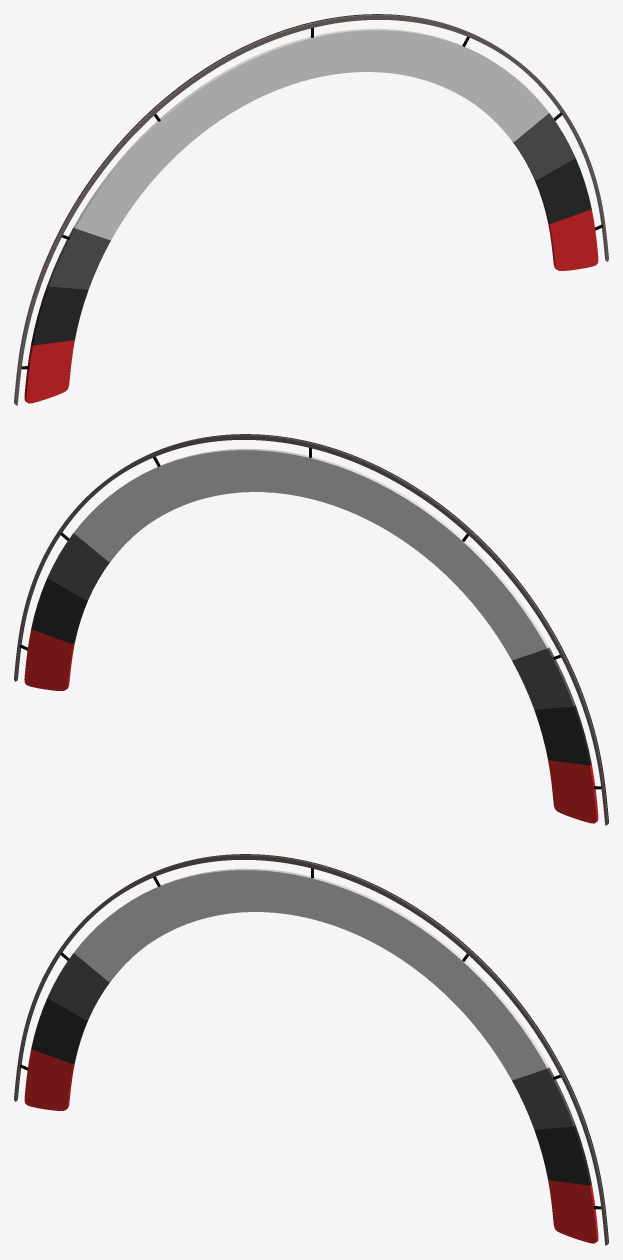
File: gate3.fbx
3 renders of one model, top to bottom at view 1: azimuth 30°, elevation 25°; view 2: azimuth 150°, elevation 25°; view 3: azimuth 330°, elevation 25°, orthographic.
Parts seen in each view (by area): view 1: ткань, каркас; view 2: ткань, каркас; view 3: ткань, каркас.
Part boxes in pixels (x1,y1,x2,y2): ткань: (24, 28, 598, 403); каркас: (14, 14, 608, 405); ткань: (24, 448, 598, 823); каркас: (14, 434, 608, 825); ткань: (24, 868, 598, 1243); каркас: (14, 854, 608, 1245).
Size of the model in its own units: 999 by 501 by 5.79.
